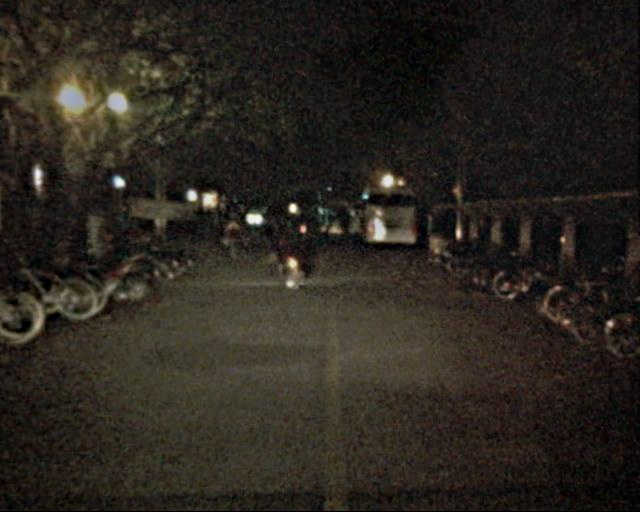person: (272, 214, 299, 280), (223, 211, 244, 262), (332, 218, 352, 242)
